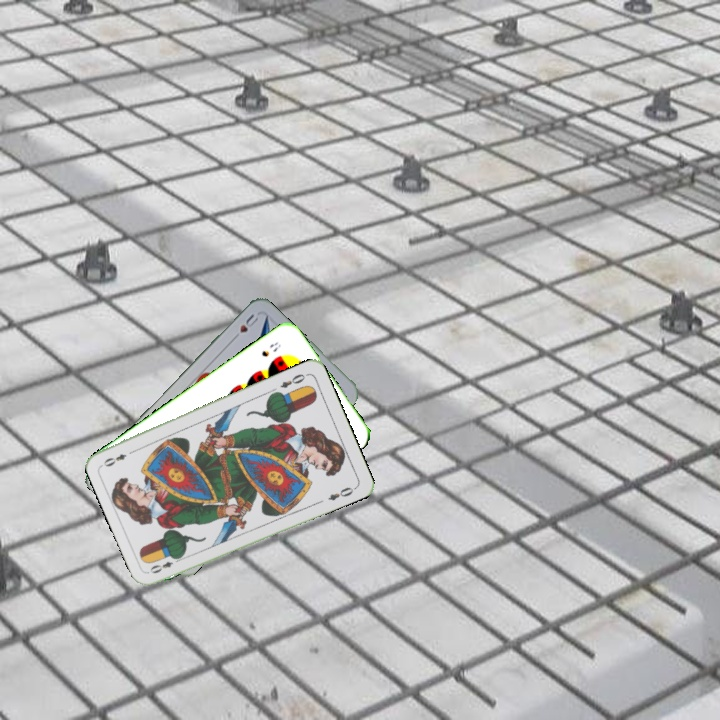EO: (146, 553, 184, 576), (276, 370, 308, 391)
HU: (228, 310, 261, 343)
S8: (258, 338, 284, 359)
